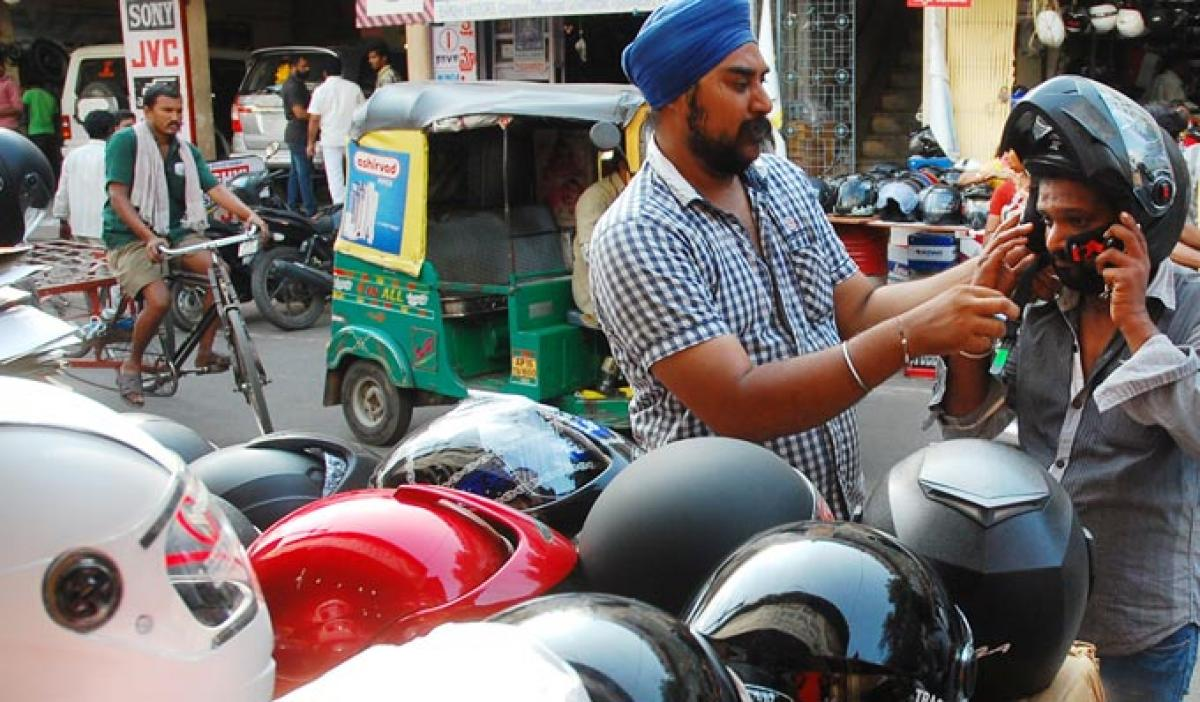helmet: (120, 75, 229, 238)
